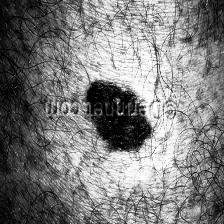Potentially Malignant Skin Tumors: (86, 84, 156, 150)
